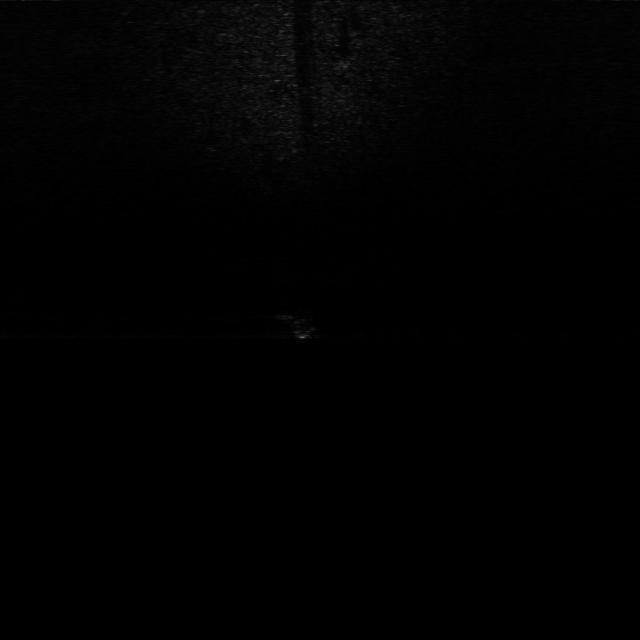human body: (273, 303, 327, 344)
